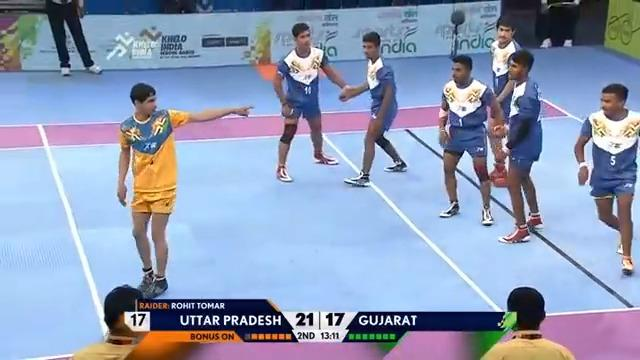Player: (573, 82, 639, 275), (272, 21, 348, 182), (437, 53, 504, 225), (338, 30, 408, 187), (493, 48, 544, 243), (69, 283, 150, 359), (487, 15, 523, 185), (44, 0, 103, 76)
Raider: (115, 81, 253, 298)
referee: (479, 285, 576, 359), (538, 0, 581, 48)
